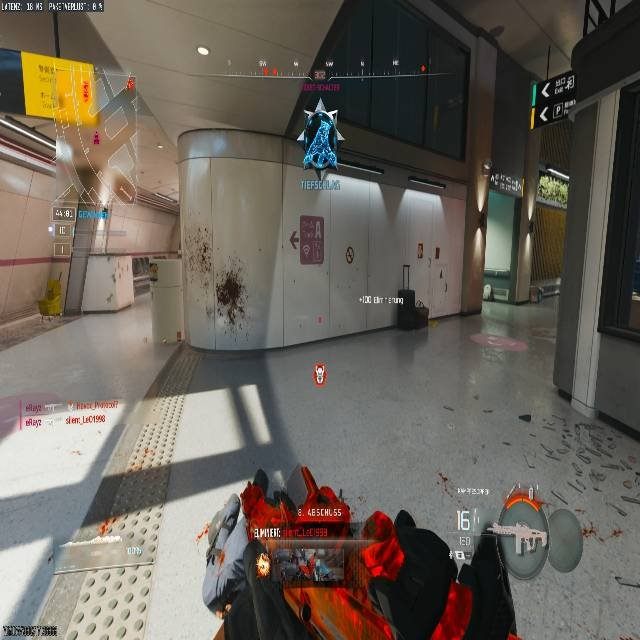head: (315, 98, 327, 112)
player: (196, 467, 469, 640), (301, 97, 340, 168), (216, 274, 244, 329)
